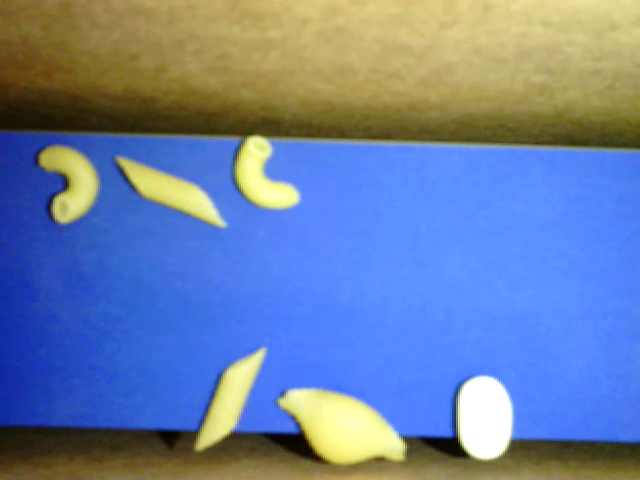elbow: (37, 143, 99, 223), (234, 136, 299, 208)
penne: (191, 347, 266, 452), (117, 154, 222, 227)
shell: (279, 387, 406, 466)
